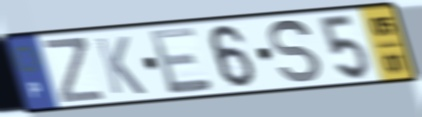5: (314, 11, 374, 82)
6: (207, 22, 259, 92)
E: (146, 24, 217, 98)
K: (93, 34, 149, 97)
S: (267, 17, 324, 86)
Z: (41, 36, 108, 106)
